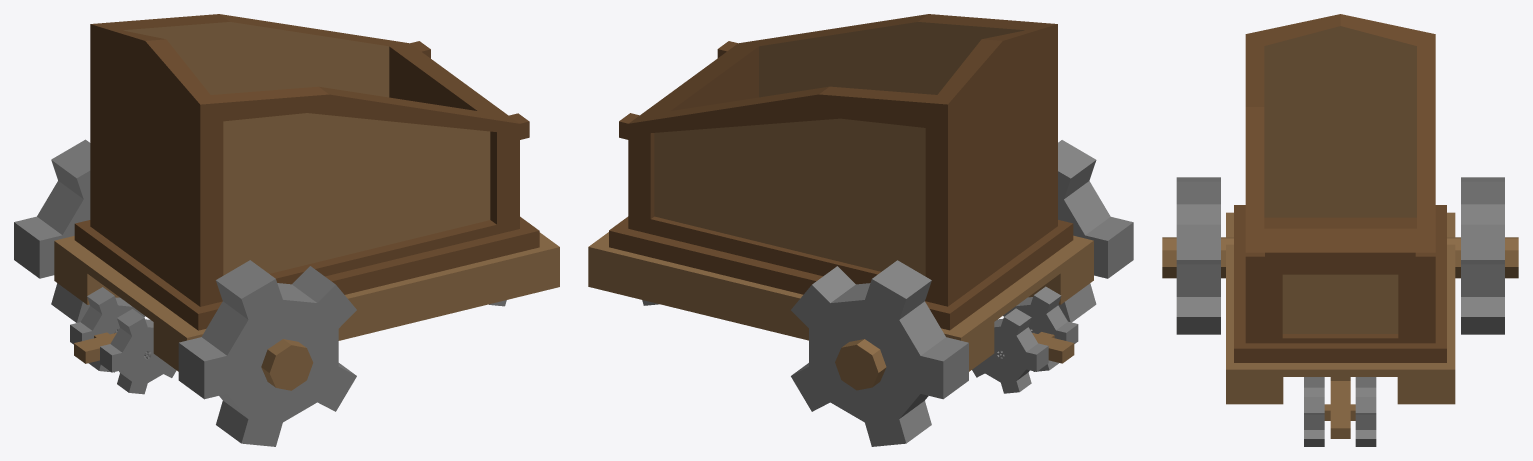
Rendered from chariot_usine (2).fbx.
The picture shows the model from 3 angles, left to right: view 1: azimuth 30°, elevation 25°; view 2: azimuth 150°, elevation 25°; view 3: azimuth 270°, elevation 25°; orthographic projection. The views are drawn at different scales.
Visible parts, largest first — view 1: conteneur, roue droit, planche chariot roue, planche support chariot 1, roue gauche, petite roue 1.004, petite roue 1.001, barre qui tient les gros rouages, planche support chariot.002; view 2: conteneur, roue gauche, planche chariot roue, planche support chariot 1, roue droit, petite roue 1.001, petite roue 1.004, barre qui tient les gros rouages, planche support chariot.002; view 3: conteneur, planche support chariot 1, planche chariot roue, roue droit, roue gauche, barre qui tient les gros rouages, petite roue 1.003, planche support chariot.002, petite roue 1.
Boxes of the visible parts, box(x1,y1,x2,y2) form: conteneur: box(90, 14, 529, 306); roue droit: box(178, 260, 356, 446); planche chariot roue: box(54, 232, 559, 371); planche support chariot 1: box(74, 216, 539, 330); roue gauche: box(14, 139, 120, 322); petite roue 1.004: box(100, 309, 176, 394); petite roue 1.001: box(70, 287, 145, 372); barre qui tient les gros rouages: box(261, 339, 313, 390); planche support chariot.002: box(74, 332, 116, 363); conteneur: box(619, 14, 1057, 306); roue gauche: box(791, 260, 968, 446); planche chariot roue: box(588, 232, 1093, 371); planche support chariot 1: box(609, 216, 1073, 330); roue droit: box(1058, 140, 1133, 322); petite roue 1.001: box(972, 308, 1048, 393); petite roue 1.004: box(1003, 286, 1078, 371); barre qui tient les gros rouages: box(835, 339, 886, 390); planche support chariot.002: box(1032, 332, 1074, 363); conteneur: box(1245, 14, 1435, 343); planche support chariot 1: box(1234, 205, 1446, 362); planche chariot roue: box(1226, 212, 1455, 404); roue droit: box(1176, 177, 1220, 334); roue gauche: box(1461, 177, 1504, 334); barre qui tient les gros rouages: box(1162, 237, 1518, 278); petite roue 1.003: box(1355, 377, 1376, 446); planche support chariot.002: box(1324, 377, 1355, 438); petite roue 1: box(1304, 377, 1324, 446).
Bounding box in the file's own units: 576 × 418 × 453.
